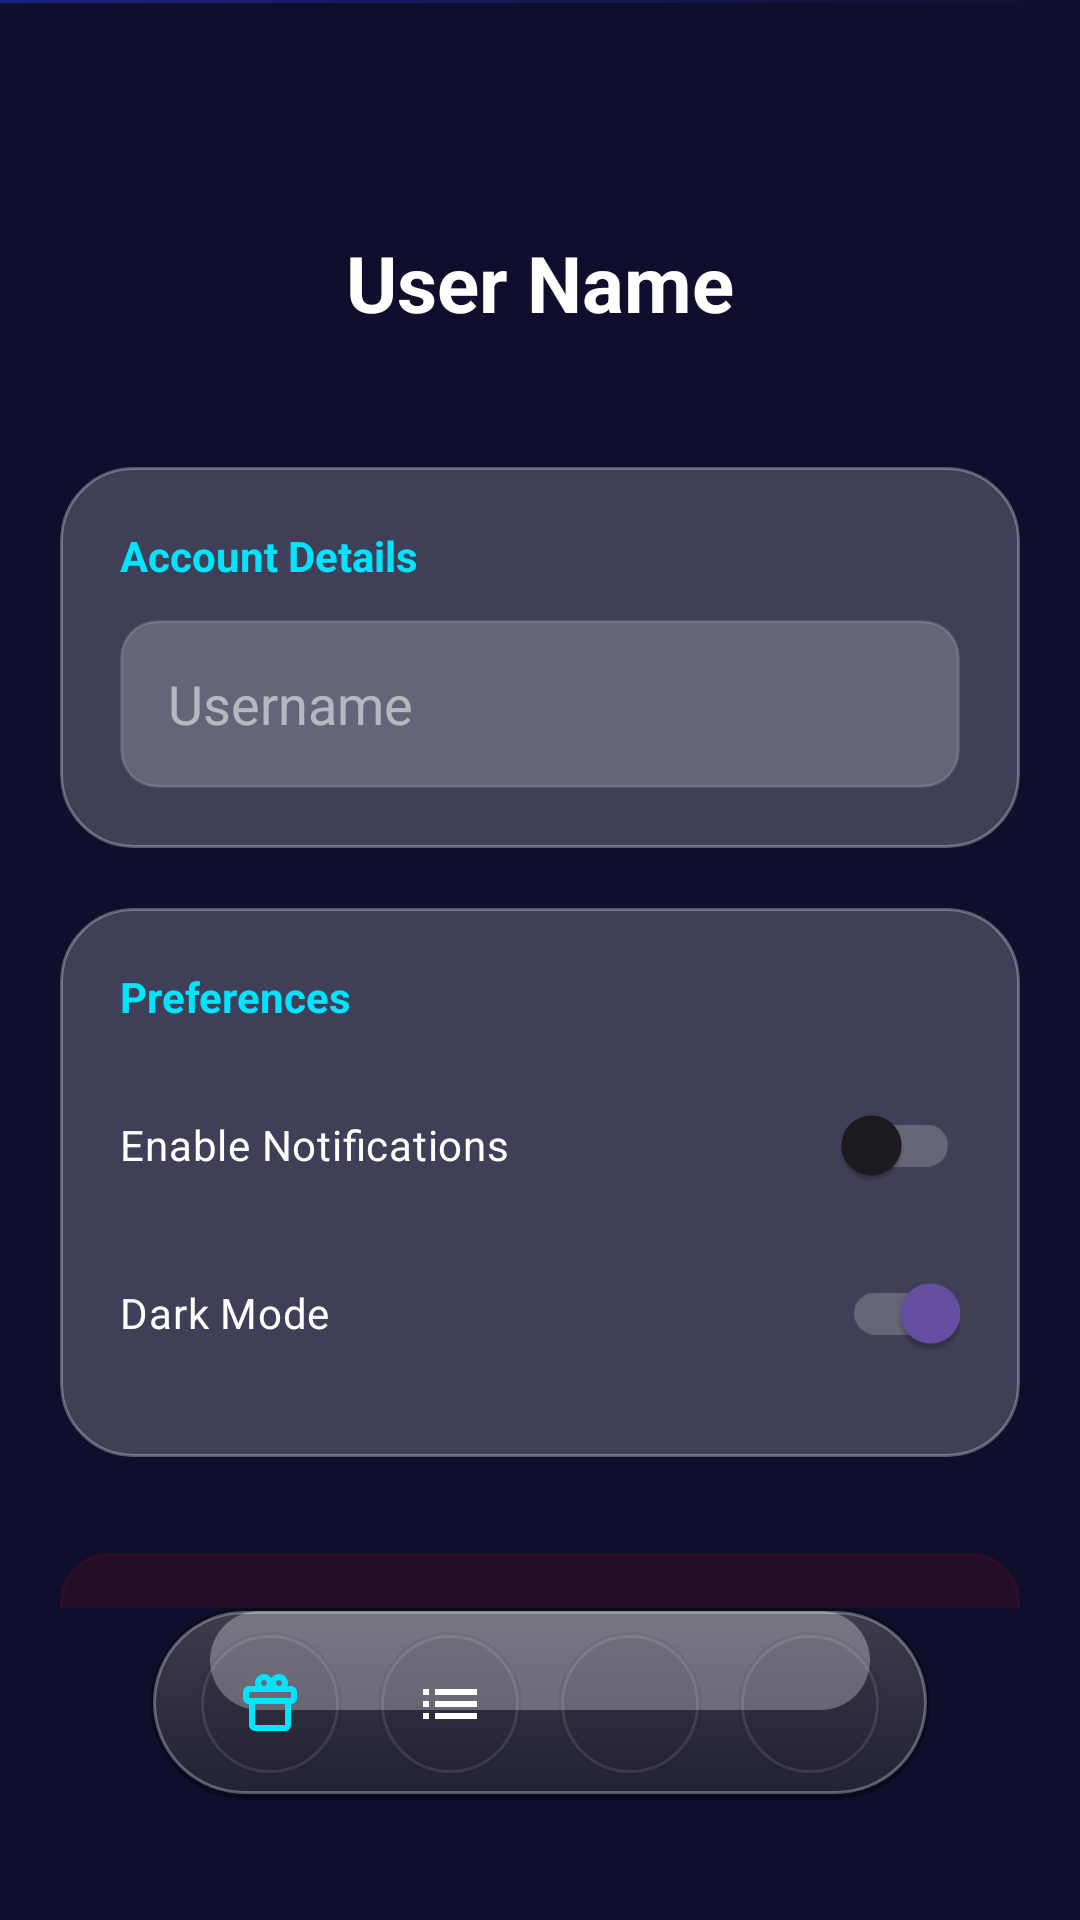

Point at icon controls on the screen. Image size 1080 x 1920, points as (x,y).
gift: (270,1704)
menu: (450,1704)
